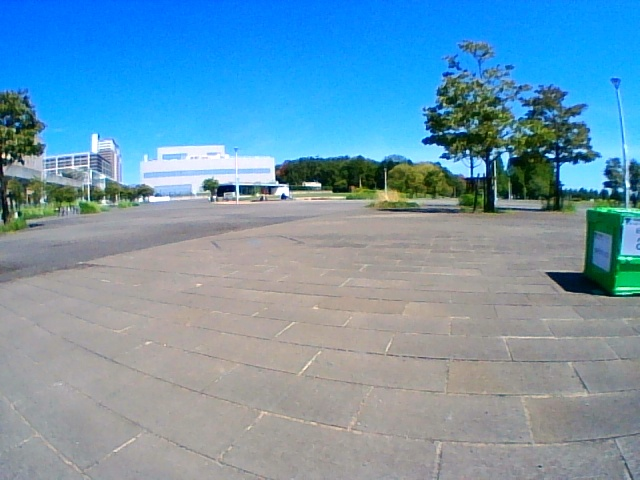green_box: (585, 207, 640, 296)
tag: (622, 219, 640, 255)
